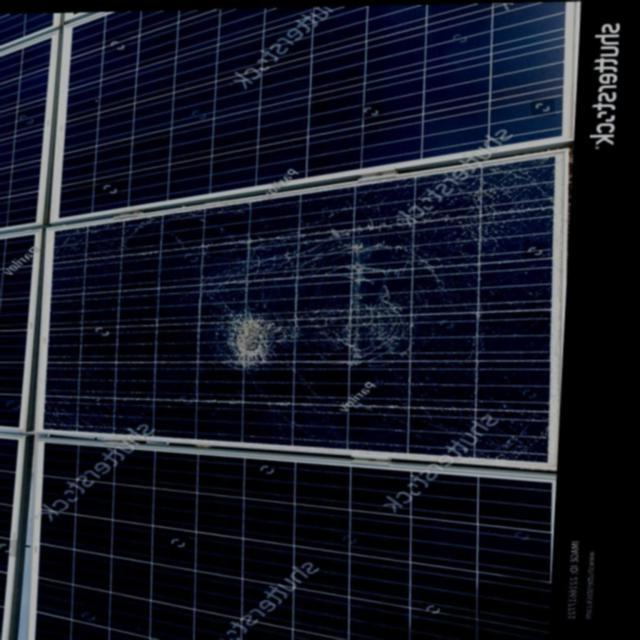cracked: (31, 148, 568, 470)
